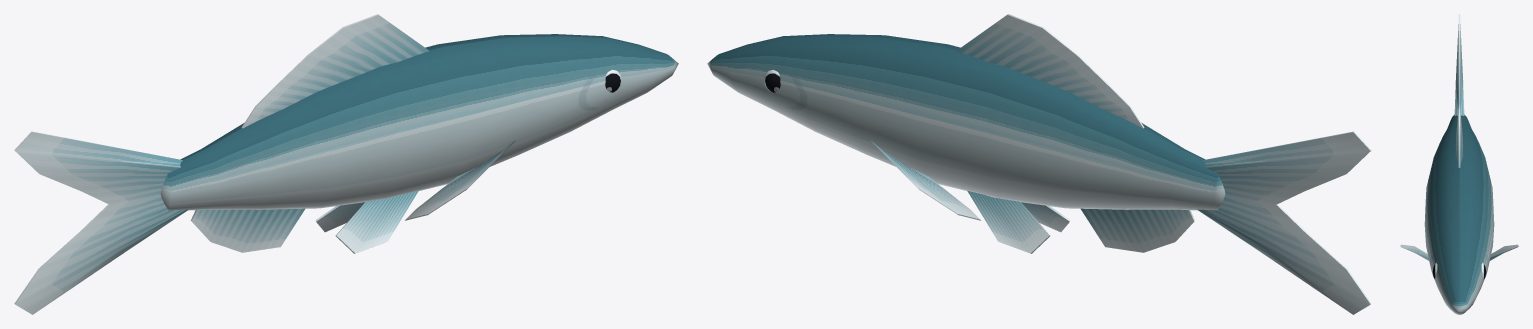
3 renders of one model, left to right at view 1: azimuth 30°, elevation 25°; view 2: azimuth 150°, elevation 25°; view 3: azimuth 270°, elevation 25°, orthographic. The views are drawn at different scales.
Parts seen in each view (by area): view 1: Mesh_FishBody, Mesh_Fins, Mesh_TailFin; view 2: Mesh_FishBody, Mesh_Fins, Mesh_TailFin; view 3: Mesh_FishBody, Mesh_Fins, Mesh_TailFin, Mesh_Eyes.
Boxes of the visible parts, x1,y1,x2,y2 form: Mesh_FishBody: [160, 34, 678, 210]; Mesh_Fins: [191, 14, 515, 253]; Mesh_TailFin: [14, 131, 188, 314]; Mesh_FishBody: [707, 34, 1225, 210]; Mesh_Fins: [870, 14, 1194, 253]; Mesh_TailFin: [1197, 131, 1371, 314]; Mesh_FishBody: [1424, 114, 1494, 314]; Mesh_Fins: [1400, 104, 1518, 260]; Mesh_TailFin: [1454, 14, 1464, 115]; Mesh_Eyes: [1432, 262, 1486, 279].
Size of the model in its own units: 0.38 by 0.12 by 0.08.
Materials: 3 (3 with a texture image).
